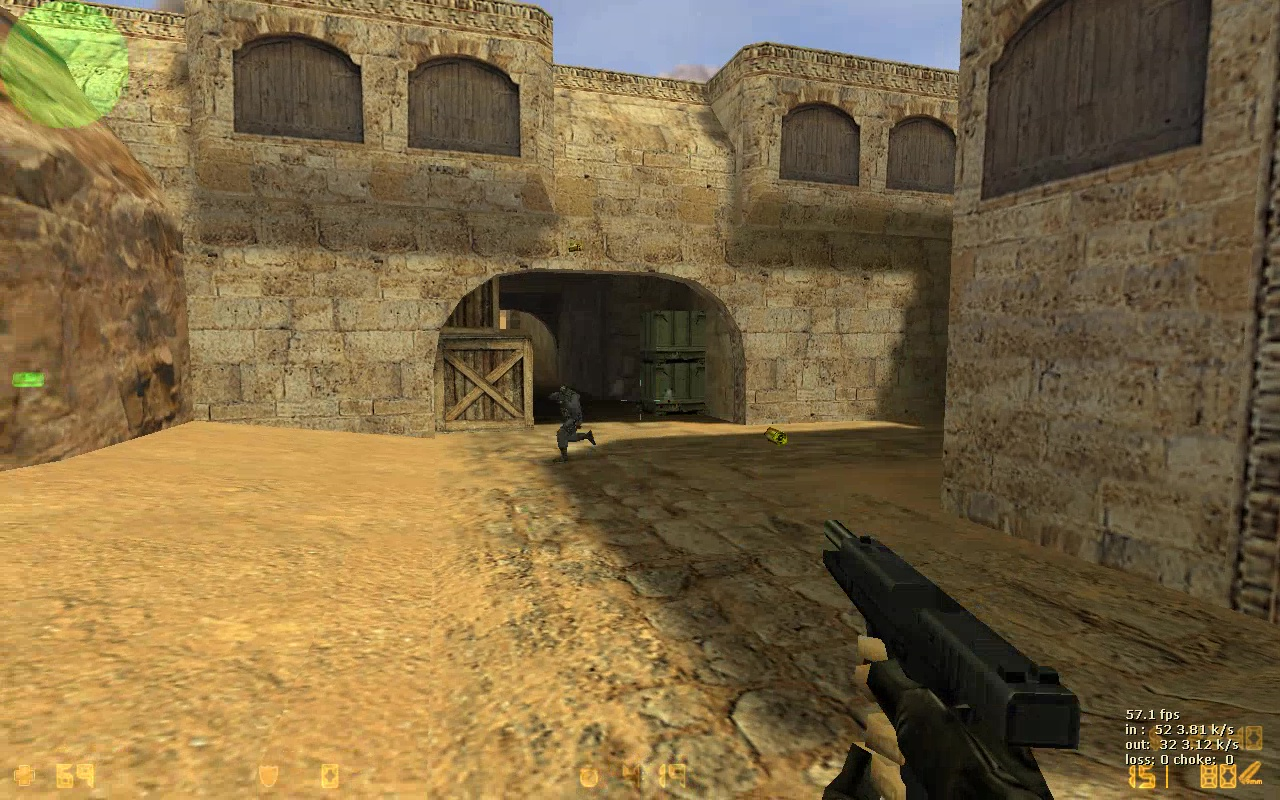ct: (547, 386, 598, 461)
